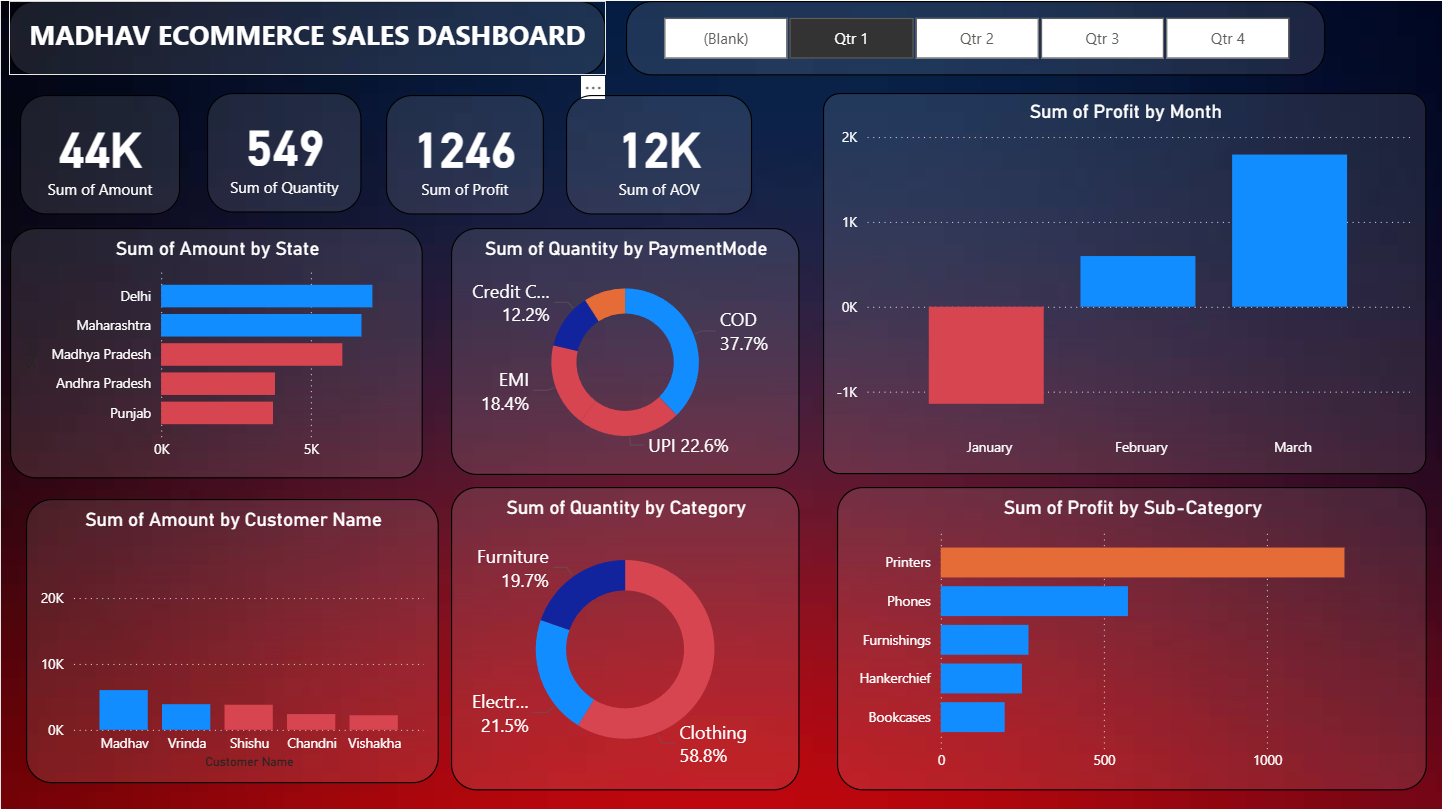

The page's visual inventory and layout, read from the dashboard file:
{"tool":"powerbi","page":{"name":"Page 1","canvas":[1280,720],"ordinal":0},"visuals":[{"type":"textbox","box":[7.4,0,529.1,65.9],"z":0},{"type":"columnChart","fields":{"Category":["Orders2.Date.Variation.Date Hierarchy.Month"],"Y":["Sum(Details.Profit)"]},"box":[728.6,81.5,535.2,338.4],"z":1000},{"type":"barChart","fields":{"Category":["Details.Sub-Category"],"Y":["Sum(Details.Profit)"]},"box":[741,430.9,522.8,269],"z":2000},{"type":"donutChart","fields":{"Category":["Details.Category"],"Y":["Sum(Details.Quantity)"]},"box":[399.3,430.9,308.7,269],"z":3000},{"type":"donutChart","fields":{"Y":["Sum(Details.Quantity)"],"Category":["Details.PaymentMode"]},"box":[399.3,201.7,308.7,219],"z":4000},{"type":"card","fields":{"Values":["Sum(Details.Amount)"]},"box":[16.5,83.7,141.9,105.7],"z":5000},{"type":"card","fields":{"Values":["Sum(Details.Profit)"]},"box":[341.7,83.2,140,105.7],"z":6000},{"type":"card","fields":{"Values":["Sum(Details.Quantity)"]},"box":[183.1,81.8,137.2,105.7],"z":7000},{"type":"card","fields":{"Values":["Sum(Details.AOV)"]},"box":[500.9,83.7,165.2,105.7],"z":8000},{"type":"barChart","fields":{"Category":["Orders2.State"],"Y":["Sum(Details.Amount)"]},"box":[8.2,201.7,366.4,222],"z":9000},{"type":"columnChart","fields":{"Category":["Orders2.Customer Name "],"Y":["Sum(Details.Amount)"]},"box":[22,441.3,366.4,251.7],"z":10000},{"type":"slicer","fields":{"Values":["Orders2.Date.Variation.Date Hierarchy.Quarter"]},"box":[554.4,0,620.2,65.9],"z":10001}]}

Visuals, with their boxes in screenshot pixels (x1, y1, x2, y2), scaled from the page's 1280x720 canvas onto the 1442x809 screenshot:
textbox: detection(8, 0, 604, 74)
columnChart - Orders2.Date.Variation.Date Hierarchy.Month x Sum(Details.Profit): detection(821, 92, 1424, 472)
barChart - Details.Sub-Category x Sum(Details.Profit): detection(835, 484, 1424, 786)
donutChart - Details.Category x Sum(Details.Quantity): detection(450, 484, 798, 786)
donutChart - Sum(Details.Quantity) x Details.PaymentMode: detection(450, 227, 798, 473)
card - Sum(Details.Amount): detection(19, 94, 178, 213)
card - Sum(Details.Profit): detection(385, 93, 543, 212)
card - Sum(Details.Quantity): detection(206, 92, 361, 211)
card - Sum(Details.AOV): detection(564, 94, 750, 213)
barChart - Orders2.State x Sum(Details.Amount): detection(9, 227, 422, 476)
columnChart - Orders2.Customer Name  x Sum(Details.Amount): detection(25, 496, 438, 779)
slicer - Orders2.Date.Variation.Date Hierarchy.Quarter: detection(625, 0, 1323, 74)
